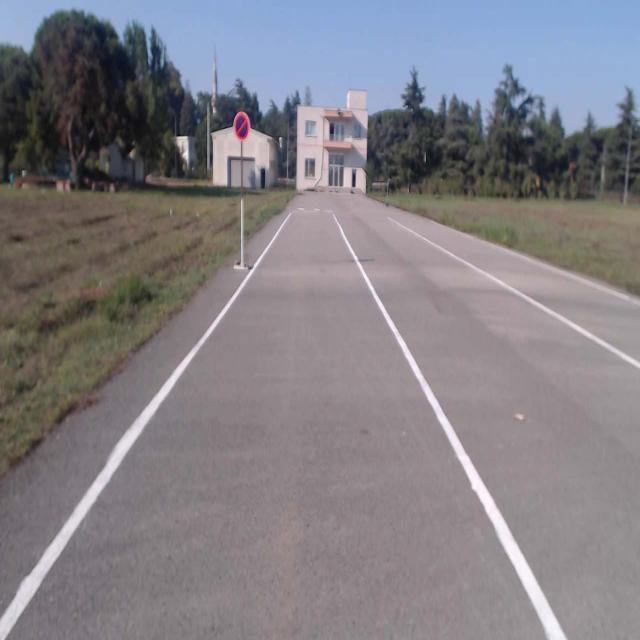parkyasak: (234, 112, 250, 140)
